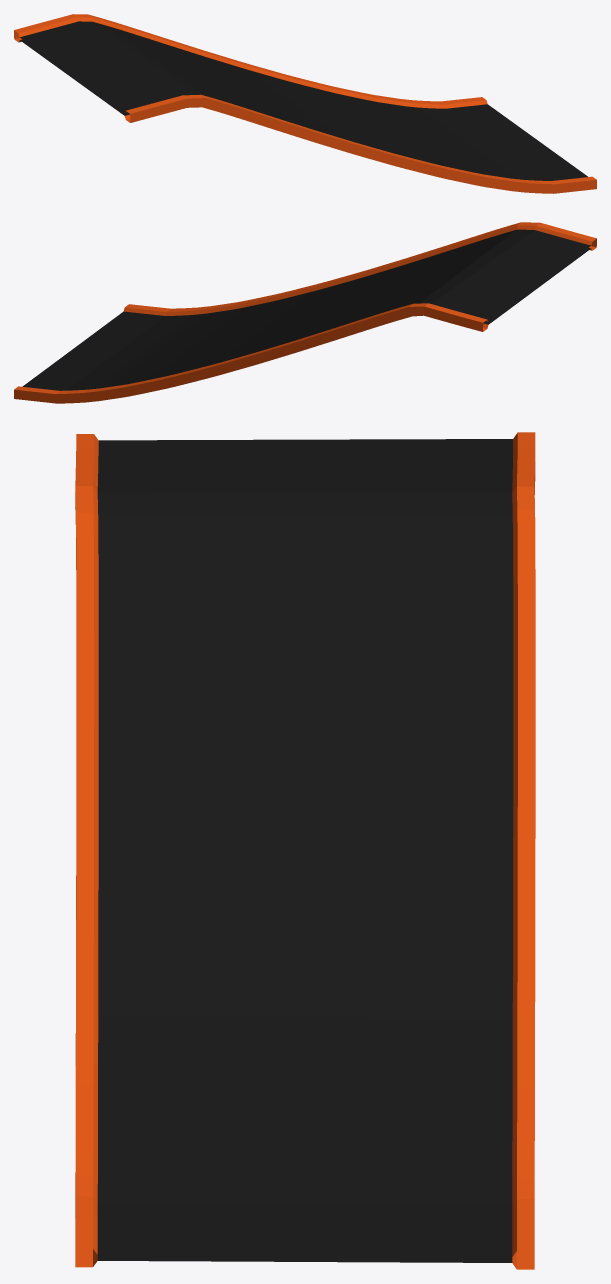
The model's file is Plaque.fbx.
The picture shows the model from 3 angles, top to bottom: view 1: azimuth 30°, elevation 25°; view 2: azimuth 150°, elevation 25°; view 3: azimuth 270°, elevation 25°; orthographic projection. The views are drawn at different scales.
Parts seen in each view (by area): view 1: tuile usine; view 2: tuile usine; view 3: tuile usine.
Boxes of the visible parts, left/top/right/bottom form: tuile usine: left=14, top=14, right=596, bottom=193; tuile usine: left=14, top=222, right=596, bottom=403; tuile usine: left=75, top=432, right=535, bottom=1269.
Bounding box in the file's own units: 120 × 46.95 × 51.02.
